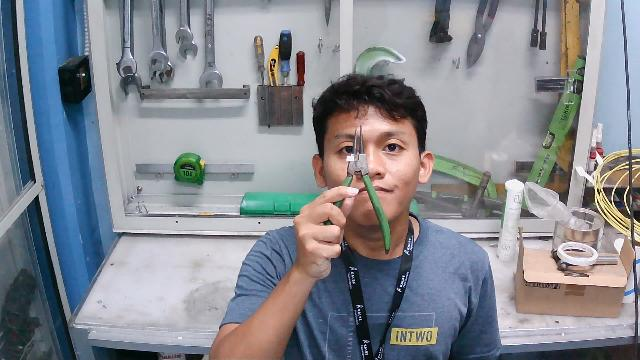tang_cucut_lancip_2: (309, 119, 403, 259)
